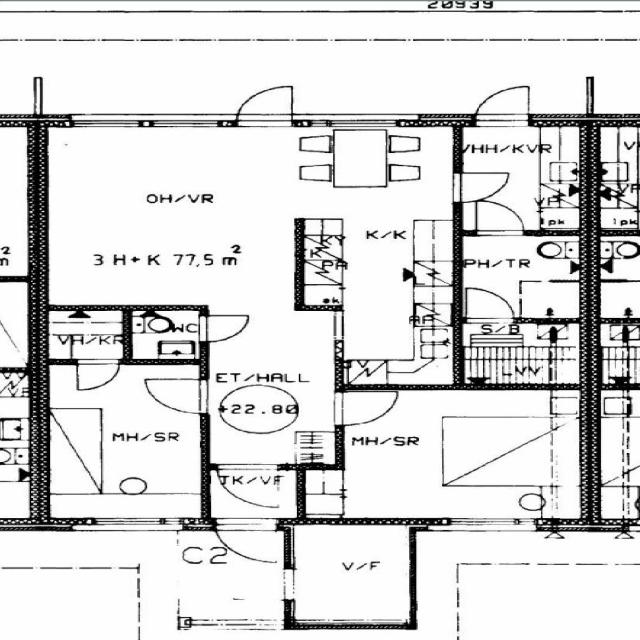door: (216, 518, 276, 567), (236, 79, 292, 126), (217, 464, 278, 507), (476, 81, 528, 126), (147, 379, 209, 414), (334, 392, 396, 424), (234, 569, 294, 600), (476, 201, 524, 236), (454, 172, 509, 202), (466, 290, 514, 324), (201, 315, 250, 341), (77, 359, 118, 390)
